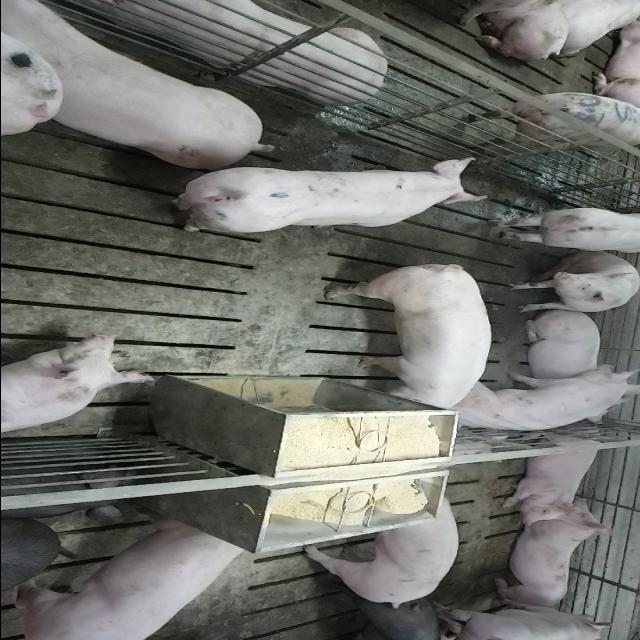Feeding: (312, 260, 496, 410)
Sitting: (455, 366, 640, 436), (505, 250, 639, 314)
Standing: (10, 518, 248, 638), (162, 156, 486, 234), (306, 503, 462, 610), (464, 89, 638, 157), (488, 204, 638, 254), (434, 605, 618, 640), (320, 598, 446, 640)
Sternal_lying: (63, 0, 391, 102), (0, 333, 160, 438), (494, 502, 621, 610), (499, 426, 611, 522), (519, 312, 605, 384)
